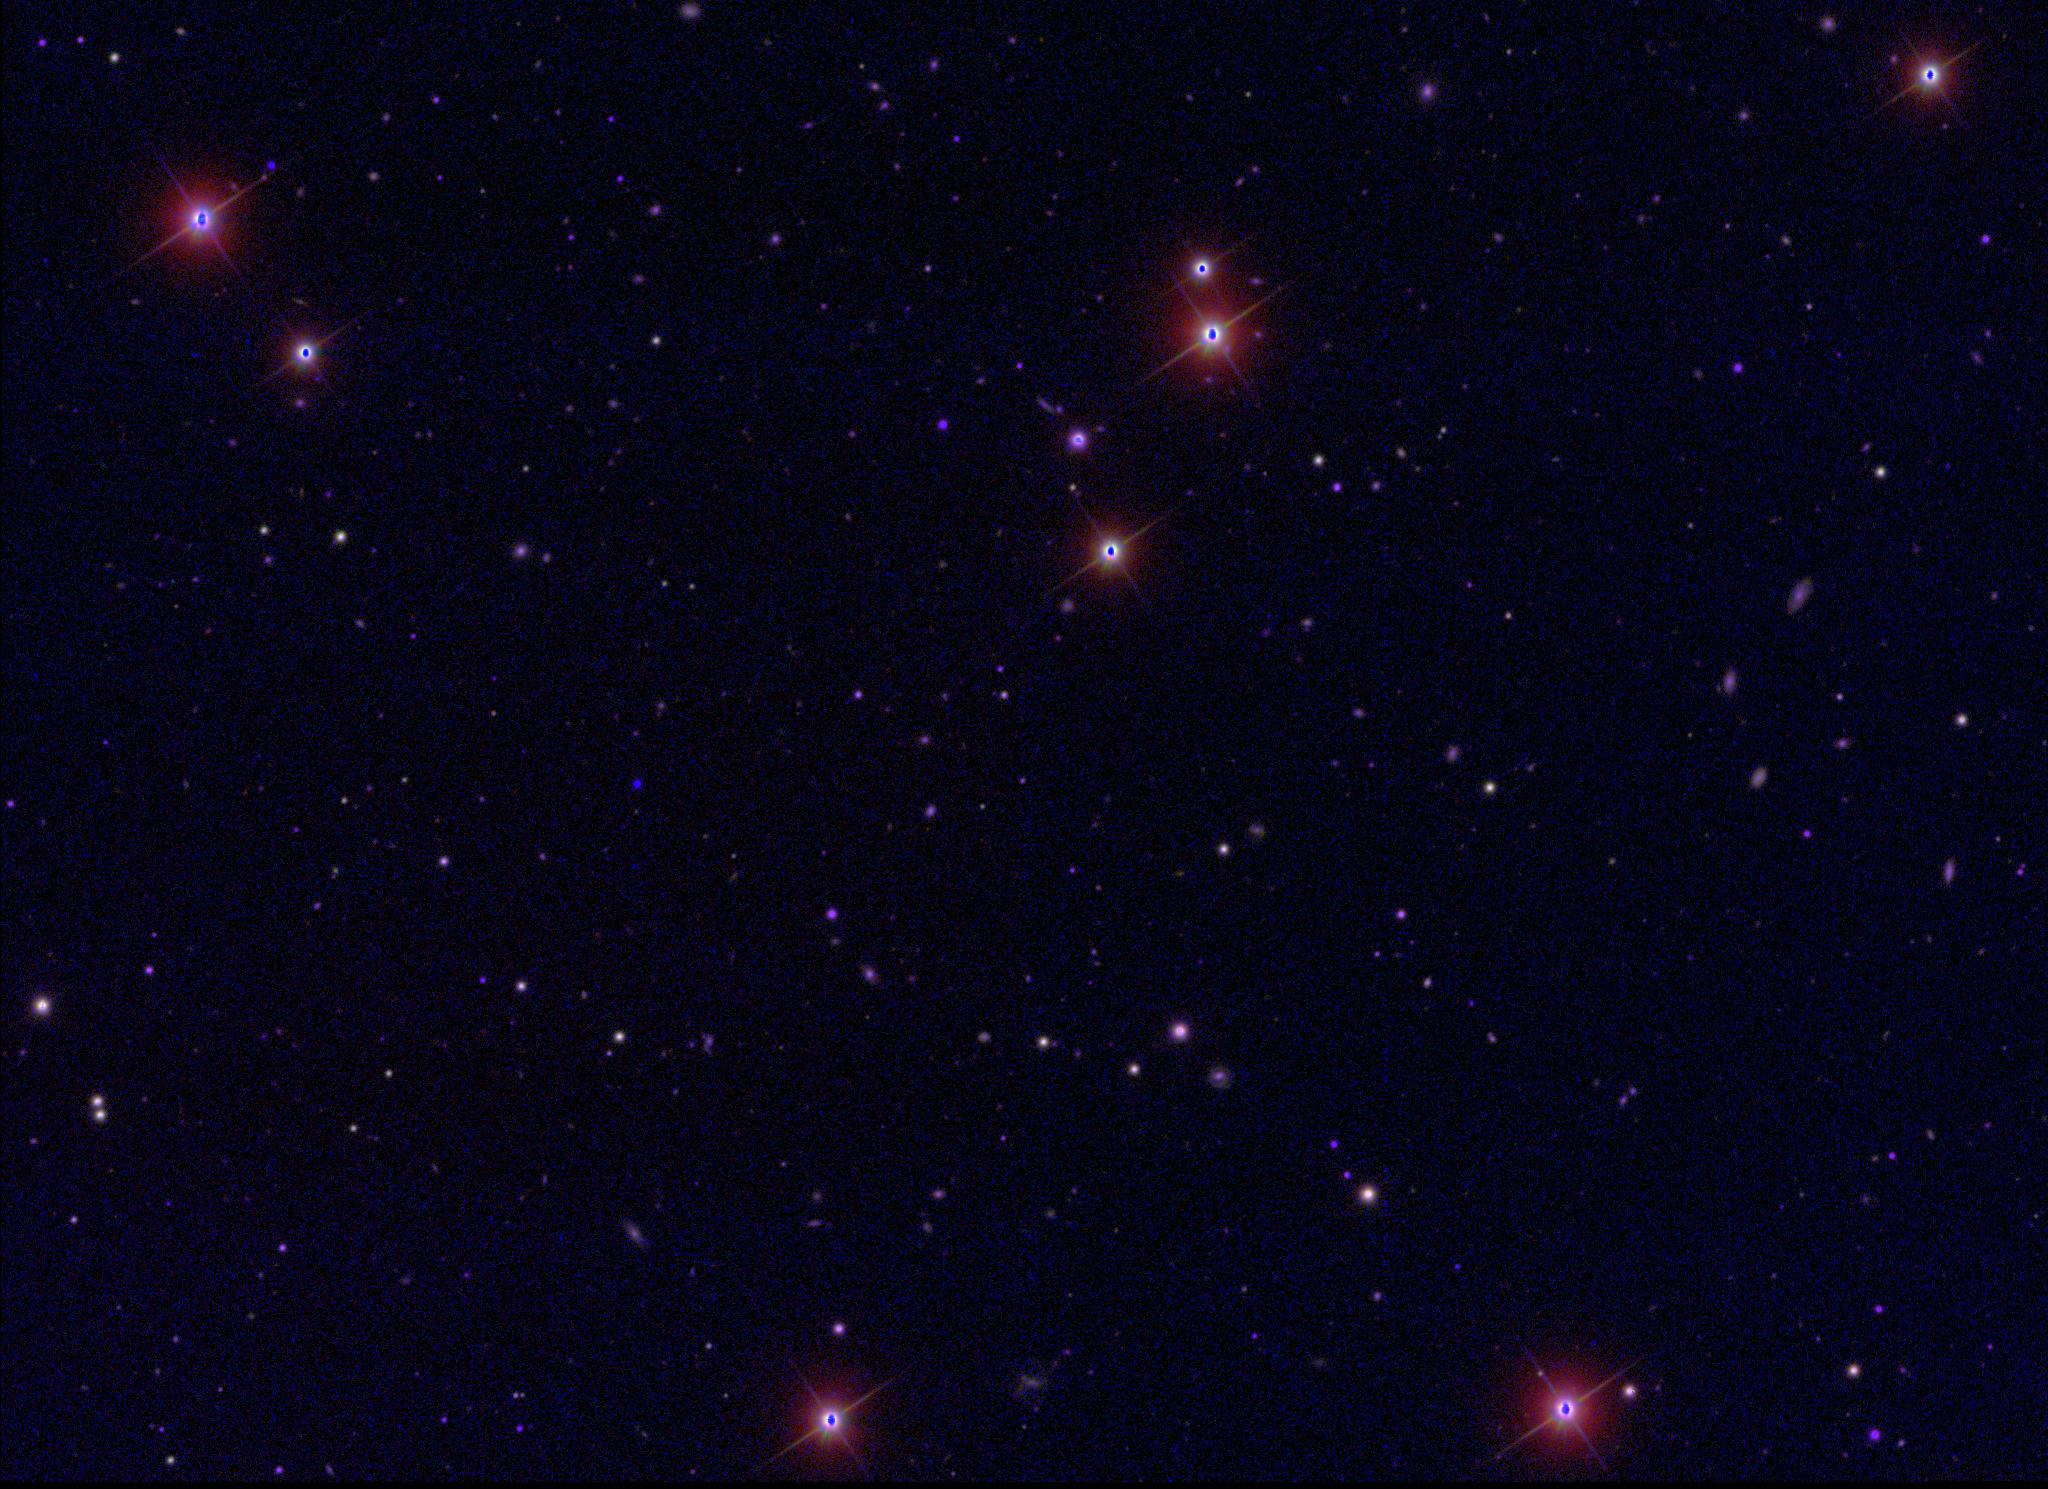L: (630, 776, 644, 791)
